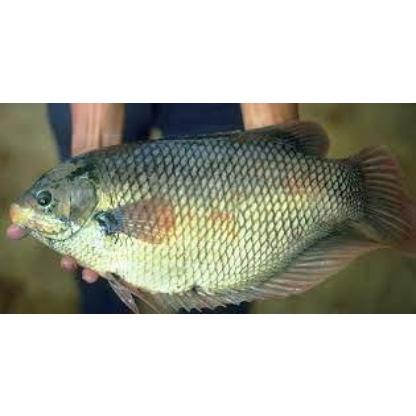gurame: (10, 134, 408, 304)
